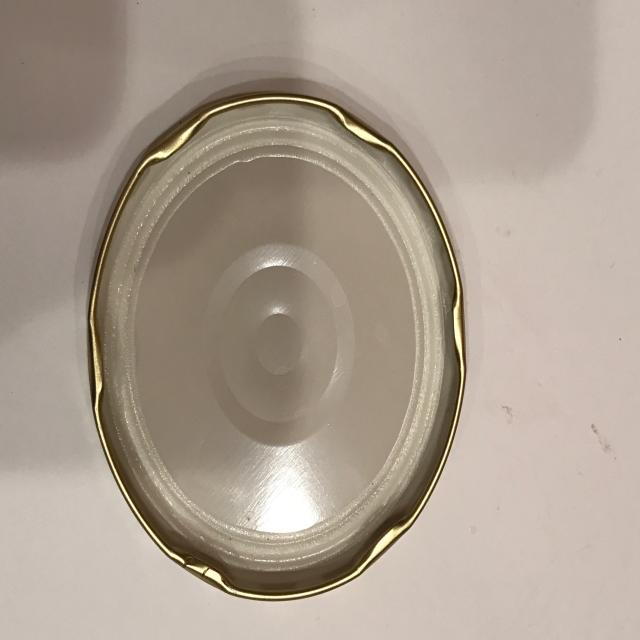metal: (87, 91, 467, 601)
